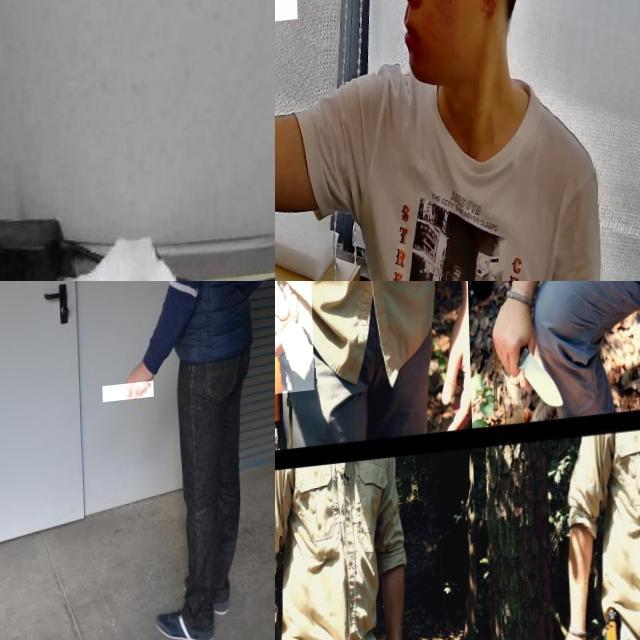-: (493, 331, 562, 426), (275, 281, 313, 399), (101, 389, 153, 409)
gun-knife-thesis - v11 Yolov5 augmented: (275, 0, 352, 97)
